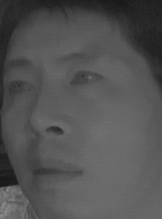eye: (68, 65, 106, 92), (5, 76, 36, 100)
mouth: (28, 156, 85, 191)
